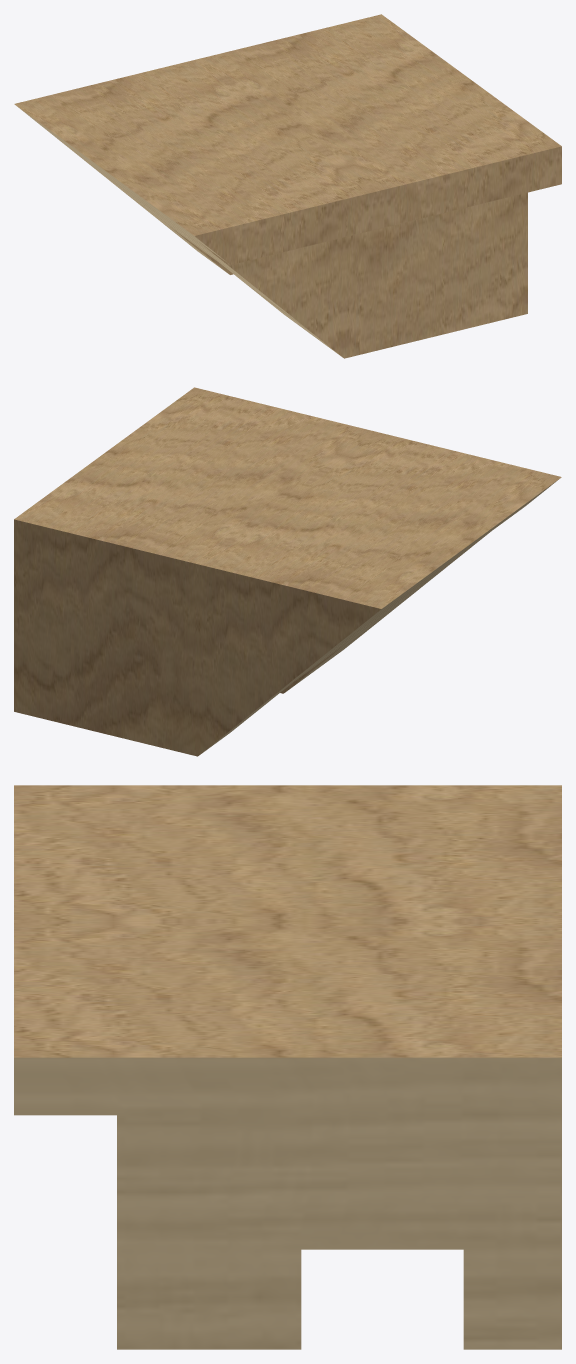
The picture shows the model from 3 angles, top to bottom: view 1: azimuth 30°, elevation 25°; view 2: azimuth 150°, elevation 25°; view 3: azimuth 270°, elevation 25°; orthographic projection. The views are drawn at different scales.
Visible parts, largest first — view 1: middle, first; view 2: middle, first; view 3: middle, first.
Boxes of the visible parts, x1,y1,x2,y2 form: middle: (198, 14, 561, 358); first: (14, 59, 378, 358); middle: (14, 387, 377, 756); first: (197, 432, 561, 756); middle: (14, 921, 561, 1349); first: (14, 785, 561, 921).
Size of the model in its own units: 0.04 by 0.02 by 0.034.
2 materials, 2 textured.
